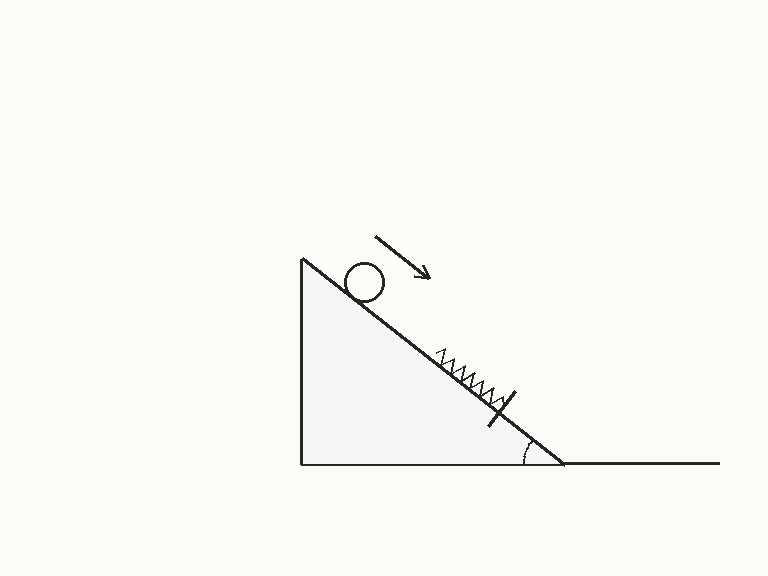ball: (342, 260, 386, 304)
ramp: (300, 257, 566, 466)
spring: (434, 349, 506, 408)
